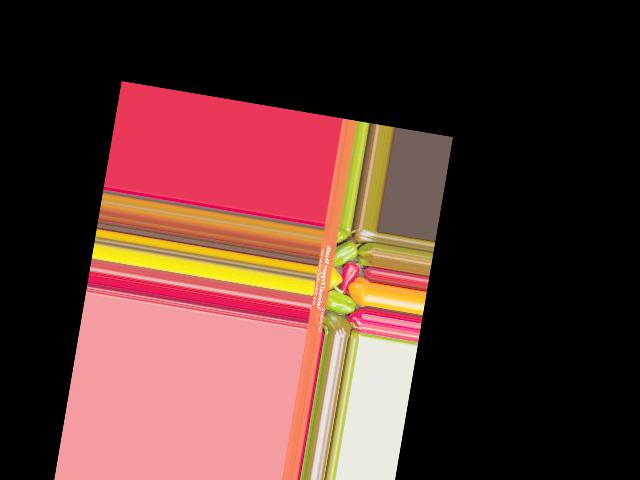bell_pepper: (321, 312, 352, 337)
